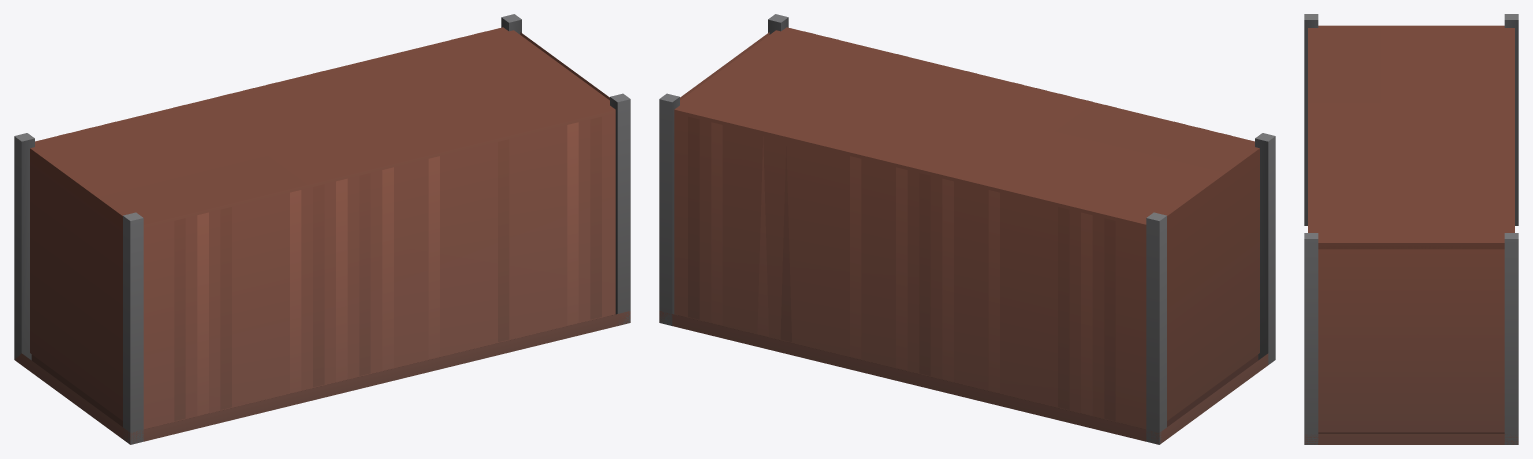
File: box_red.lod.glb
3 renders of one model, left to right at view 1: azimuth 30°, elevation 25°; view 2: azimuth 150°, elevation 25°; view 3: azimuth 270°, elevation 25°, orthographic. The views are drawn at different scales.
Visible parts, largest first — view 1: box_red; view 2: box_red; view 3: box_red.
Boxes of the visible parts, x1,y1,x2,y2 form: box_red: (14,14,630,444); box_red: (659,14,1275,444); box_red: (1304,14,1518,444).
Bounding box in the file's own units: 6.06 × 2.59 × 2.44.
